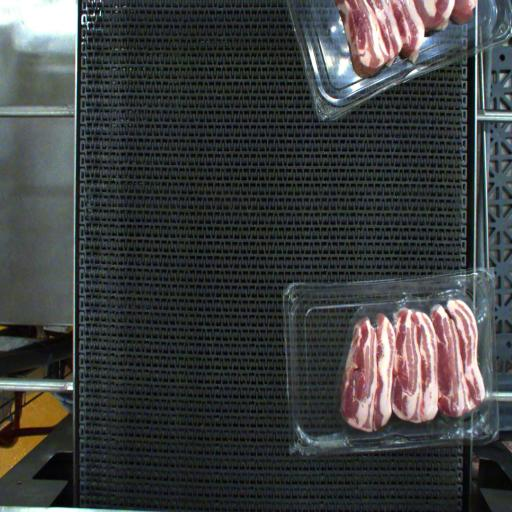unsealed: (337, 290, 488, 439)
